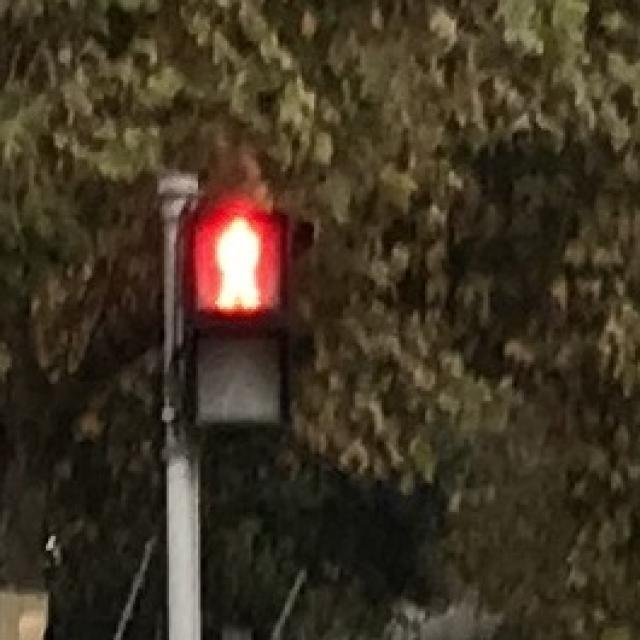red-crossing: (188, 206, 282, 316)
